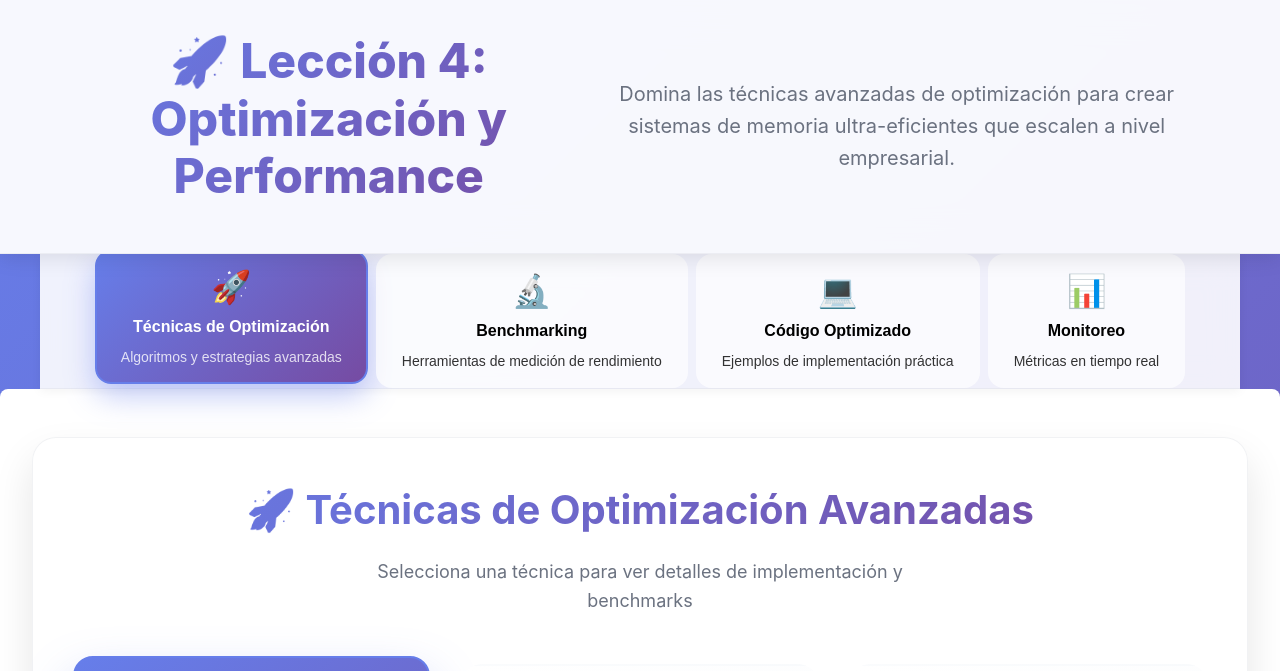
Test: Lesson04Optimization › Casos Límite y Errores › maneja datos de métricas faltantes
Click the tab "📊 Monitoreo Métricas en tiempo real" at (1086, 321), box [988,254,1185,388]
Wait 1000 ms
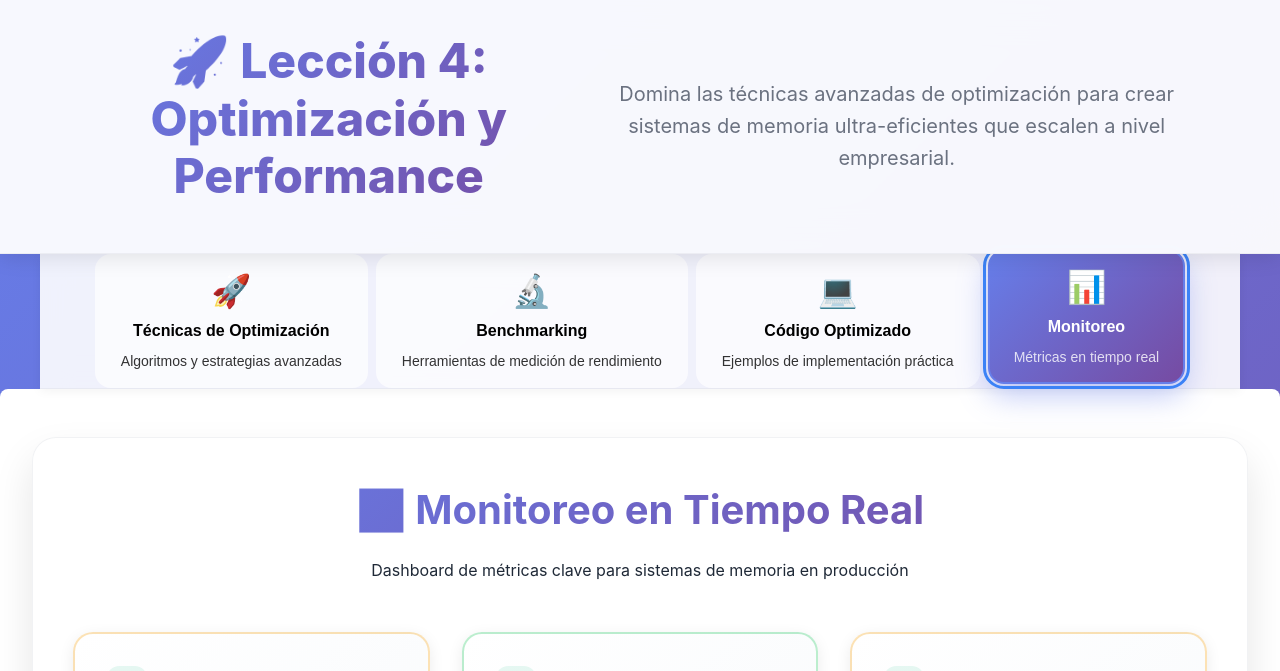
Check: the heading "📊 Monitoreo en Tiempo Real" is shown, box [73,478,1207,542]
